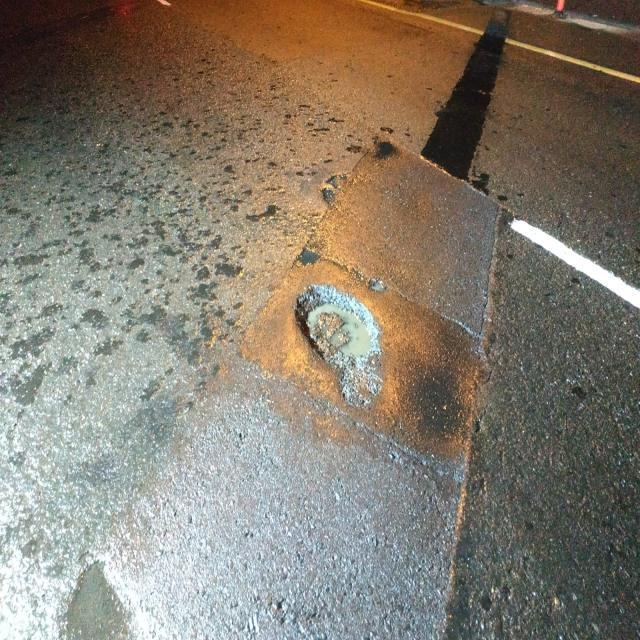Buraco: (291, 282, 389, 412), (53, 557, 134, 640), (314, 167, 356, 214)
